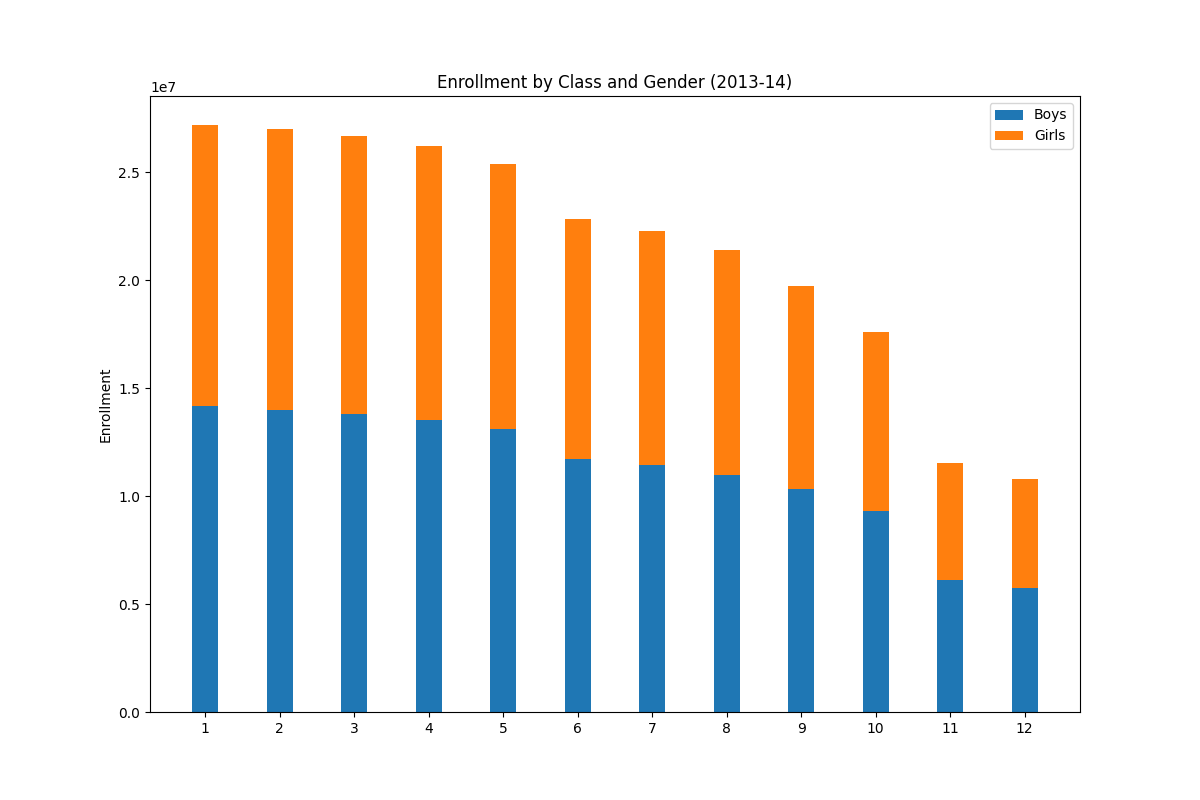

What the dashboard file says about the page in this screenshot:
{"tool":"tableau","page":{"name":"Dashboard 1","canvas":[1000,1000],"units":"permille","ordinal":0},"visuals":[{"type":"worksheet","title":"Sheet 2","mark":"Bar","rows":["count"],"cols":["date","date"],"box":[1.8,480.7,991,499.4]}]}

Visuals, with their boxes on the dashboard's canvas, which has no fixed pixel size, in thousandths of its width and height (x1, y1, x2, y2). These are canvas units, not pixel positions in the 1200x800 screenshot, which may show the page scaled, cropped or inside an application window:
"Sheet 2" worksheet (Bar marks): bbox=(2, 481, 993, 980)
